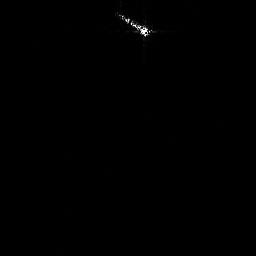ship: (117, 13, 158, 40)
